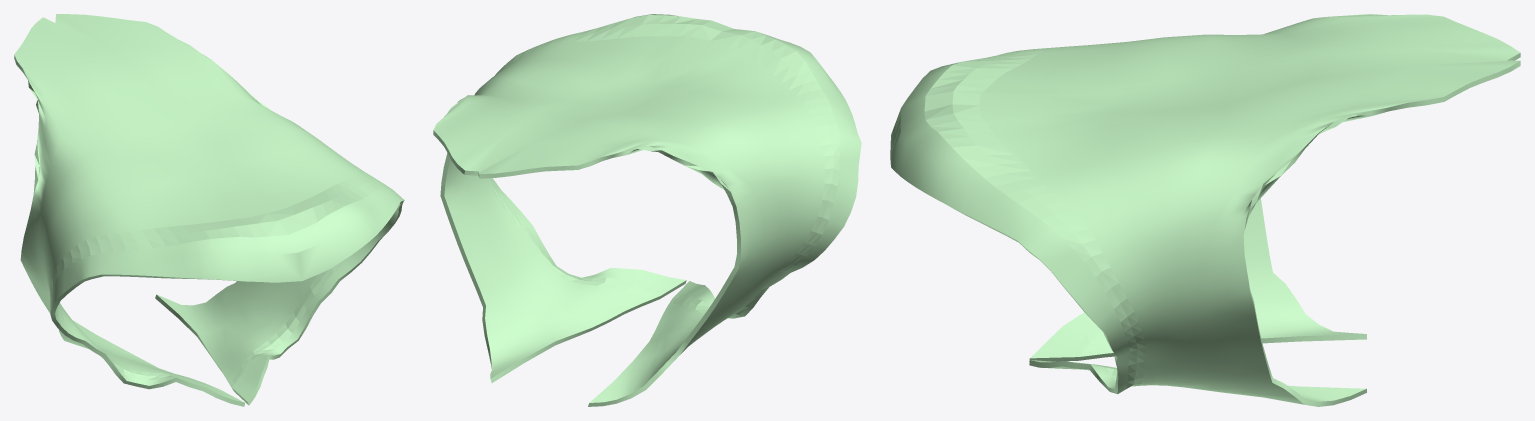
File: Transversus_Abdominis_Muscle.fbx
3 views of the same model, side by side, from view 1: azimuth 30°, elevation 25°; view 2: azimuth 150°, elevation 25°; view 3: azimuth 270°, elevation 25° (orthographic). The views are drawn at different scales.
Visible parts, largest first — view 1: Transversus_Abdominis_Muscle; view 2: Transversus_Abdominis_Muscle; view 3: Transversus_Abdominis_Muscle.
Part boxes in pixels (x1,y1,x2,y2): Transversus_Abdominis_Muscle: (14, 14, 404, 406); Transversus_Abdominis_Muscle: (433, 14, 861, 406); Transversus_Abdominis_Muscle: (890, 14, 1520, 406).
Size of the model in its own units: 28.58 by 20.18 by 36.52.
